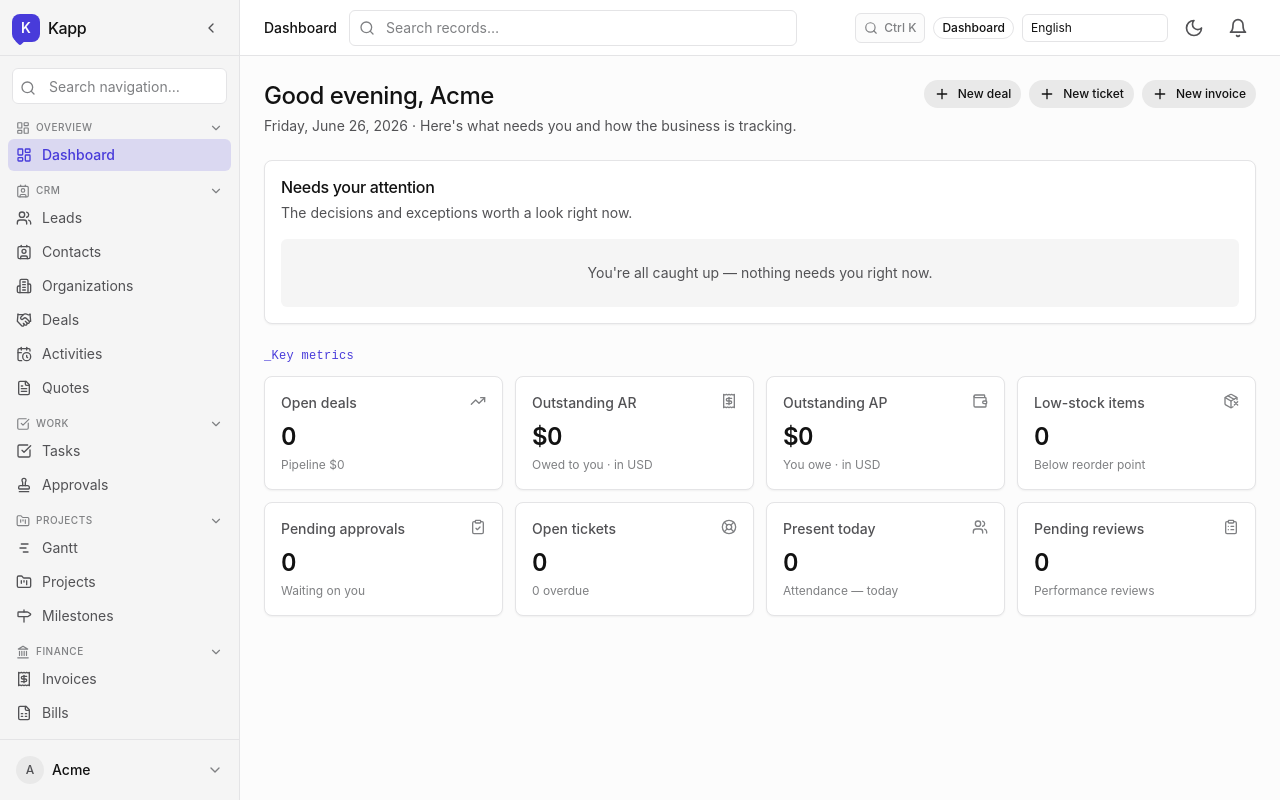
it: App shell › renders the global search box and routes a query to /search
In the dropdown named "global search": (573, 28) [349,10,797,46], type "acme corp"
Then press Enter
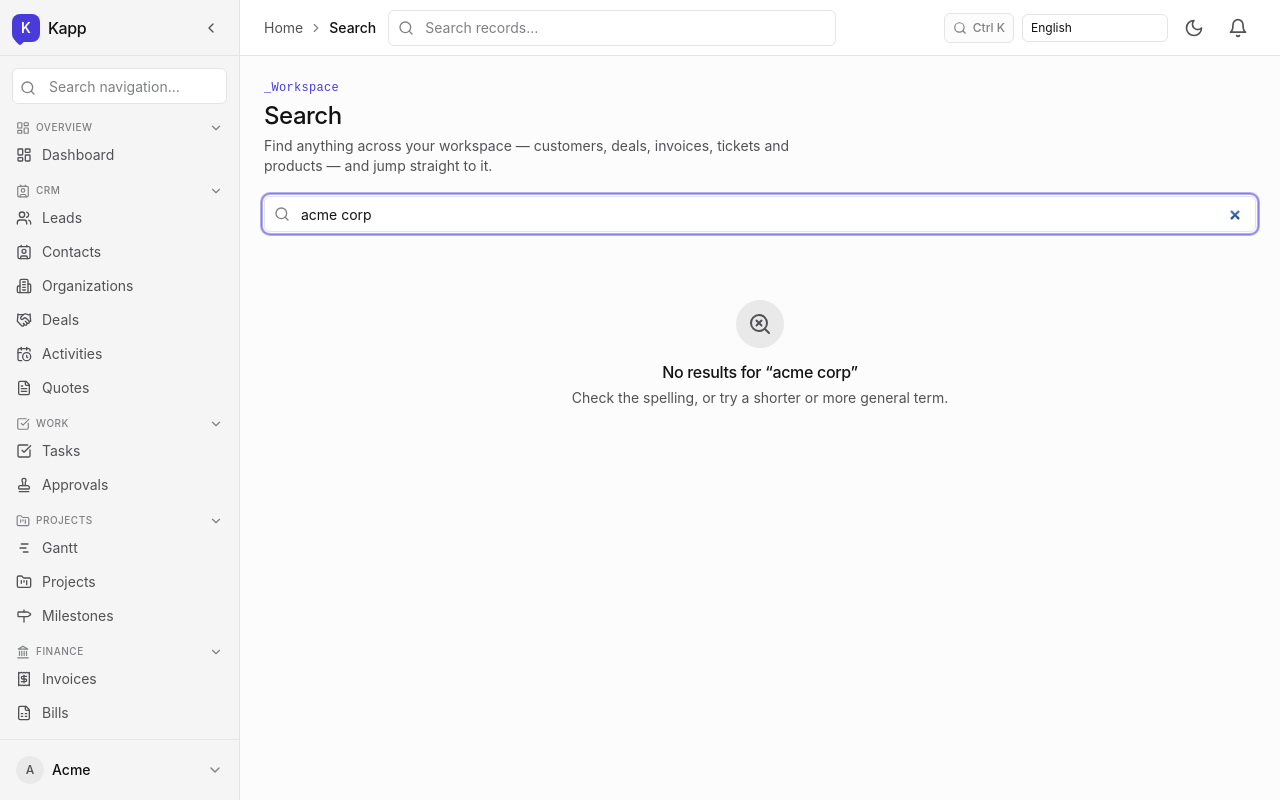
Now the heading "Search" is shown, box [264,101,342,130]
Now the search field with placeholder "Search records by name, title, description, SKU, email…" holds "acme corp", box [264,196,1256,232]
